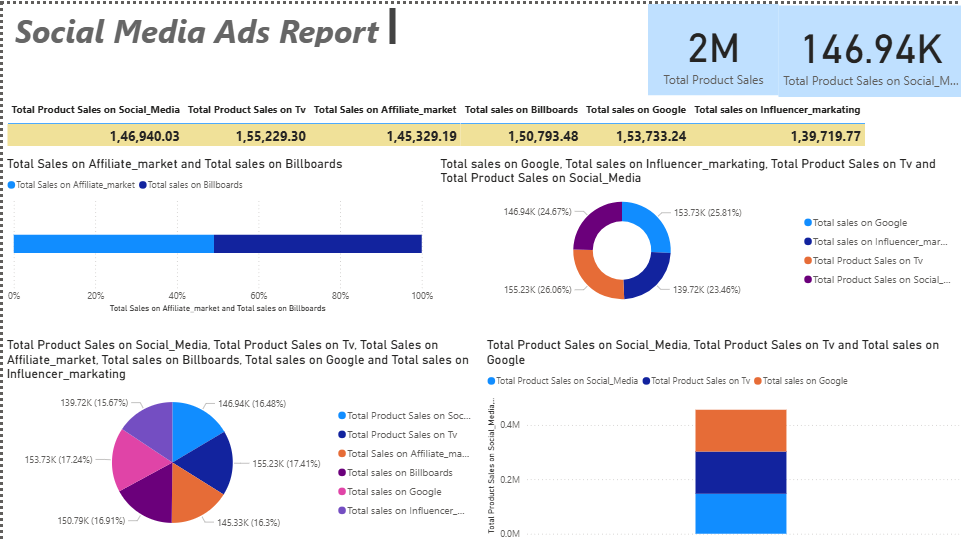

The page's visual inventory and layout, read from the dashboard file:
{"tool":"powerbi","page":{"name":"Page 1","canvas":[1280,720],"ordinal":0},"visuals":[{"type":"textbox","box":[10,0,518,62],"z":0},{"type":"card","fields":{"Values":["Advertising_Data.Total Product Sales"]},"box":[860,0,174,122],"z":1000},{"type":"pieChart","fields":{"Y":["Advertising_Data.Total Product Sales on Social_Media","Advertising_Data.Total Product Sales on Tv","Advertising_Data.Total Sales on Affiliate_market","Advertising_Data.Total sales on Billboards","Advertising_Data.Total sales on Google","Advertising_Data.Total sales on Influencer_markating"]},"box":[0,444,640,276],"z":2000},{"type":"tableEx","fields":{"Values":["Advertising_Data.Total Product Sales on Social_Media","Advertising_Data.Total Product Sales on Tv","Advertising_Data.Total Sales on Affiliate_market","Advertising_Data.Total sales on Billboards","Advertising_Data.Total sales on Google","Advertising_Data.Total sales on Influencer_markating"]},"box":[0,122,1280,80],"z":3000},{"type":"donutChart","fields":{"Y":["Advertising_Data.Total sales on Google","Advertising_Data.Total sales on Influencer_markating","Advertising_Data.Total Product Sales on Tv","Advertising_Data.Total Product Sales on Social_Media"]},"box":[578,202,702,214],"z":4000},{"type":"hundredPercentStackedBarChart","fields":{"Y":["Advertising_Data.Total Sales on Affiliate_market","Advertising_Data.Total sales on Billboards"]},"box":[0,202,578,214],"z":5000},{"type":"card","fields":{"Values":["Advertising_Data.Total Product Sales on Social_Media"]},"box":[1034,2,246,122],"z":6000},{"type":"lineStackedColumnComboChart","fields":{"Y":["Advertising_Data.Total Product Sales on Social_Media","Advertising_Data.Total Product Sales on Tv","Advertising_Data.Total sales on Google"]},"box":[640,444,640,276],"z":7000}]}

Visuals, with their boxes in screenshot pixels (x1, y1, x2, y2), scaled from the page's 1280x720 canvas onto the 961x541 screenshot:
textbox: {"x1": 8, "y1": 0, "x2": 396, "y2": 47}
card - Advertising_Data.Total Product Sales: {"x1": 646, "y1": 0, "x2": 776, "y2": 92}
pieChart - Advertising_Data.Total Product Sales on Social_Media x Advertising_Data.Total Product Sales on Tv: {"x1": 0, "y1": 334, "x2": 480, "y2": 540}
tableEx - Advertising_Data.Total Product Sales on Social_Media x Advertising_Data.Total Product Sales on Tv: {"x1": 0, "y1": 92, "x2": 960, "y2": 152}
donutChart - Advertising_Data.Total sales on Google x Advertising_Data.Total sales on Influencer_markating: {"x1": 434, "y1": 152, "x2": 960, "y2": 313}
hundredPercentStackedBarChart - Advertising_Data.Total Sales on Affiliate_market x Advertising_Data.Total sales on Billboards: {"x1": 0, "y1": 152, "x2": 434, "y2": 313}
card - Advertising_Data.Total Product Sales on Social_Media: {"x1": 776, "y1": 2, "x2": 960, "y2": 93}
lineStackedColumnComboChart - Advertising_Data.Total Product Sales on Social_Media x Advertising_Data.Total Product Sales on Tv: {"x1": 480, "y1": 334, "x2": 960, "y2": 540}
